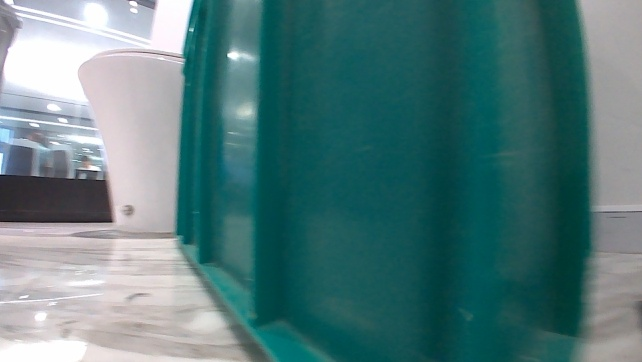toilet: (75, 45, 184, 240)
